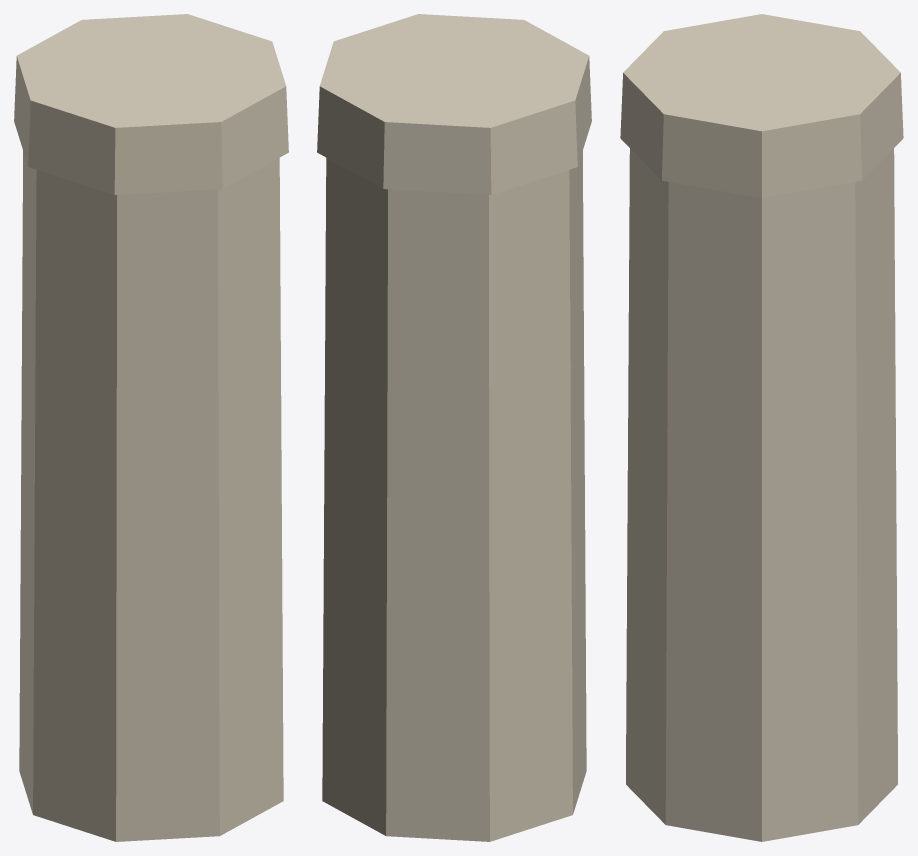
Rendered from coit-tower_lod2.glb.
3 views of the same model, side by side, from view 1: azimuth 30°, elevation 25°; view 2: azimuth 150°, elevation 25°; view 3: azimuth 270°, elevation 25° (orthographic).
Parts seen in each view (by area): view 1: coit-tower_lod2_stone; view 2: coit-tower_lod2_stone; view 3: coit-tower_lod2_stone.
Part boxes in pixels (x1=…): coit-tower_lod2_stone: x1=14, y1=14, x2=288, y2=841; coit-tower_lod2_stone: x1=317, y1=14, x2=591, y2=841; coit-tower_lod2_stone: x1=620, y1=14, x2=903, y2=841.
Bounding box in the file's own units: 23.44 × 65 × 23.44.
